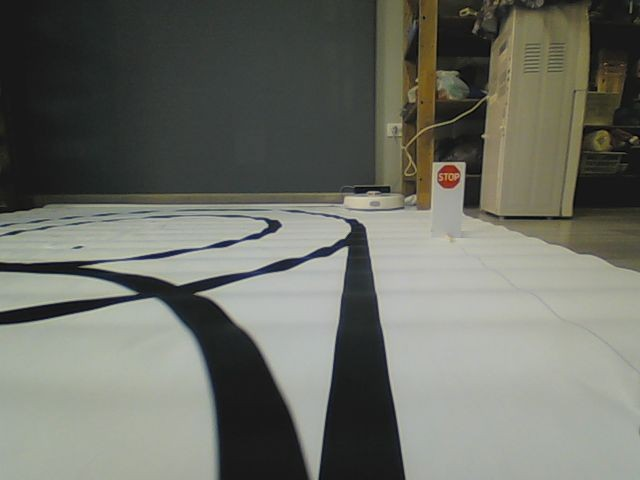Stop: (436, 165, 463, 191)
